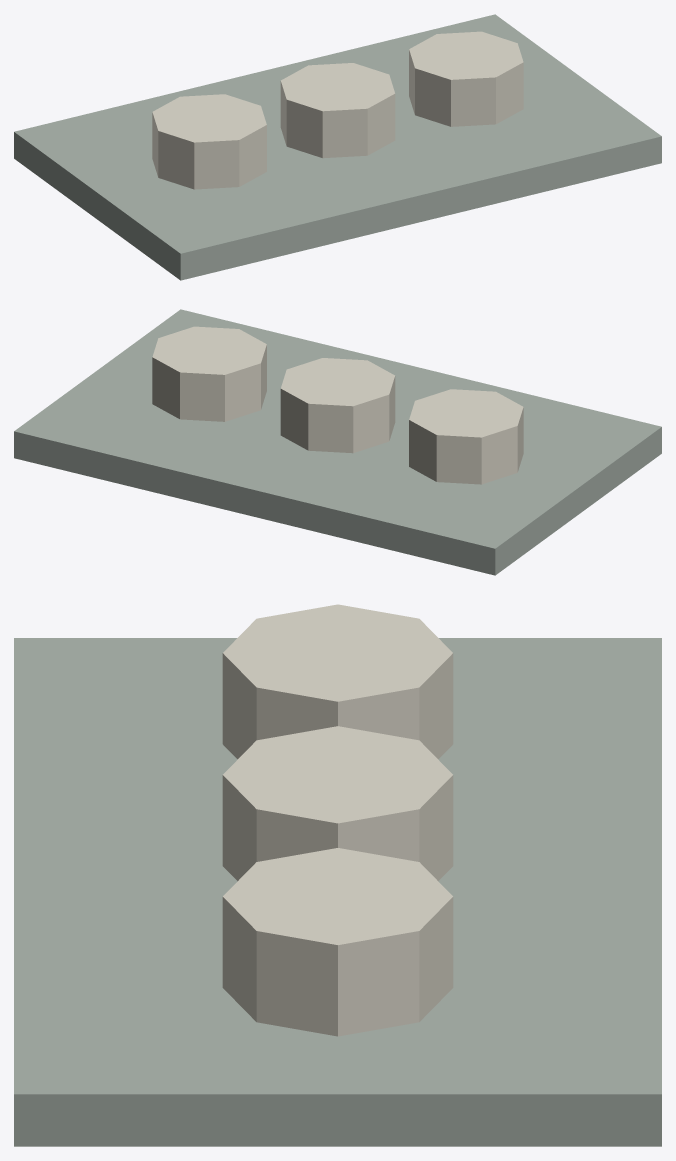
The model's file is blender_sanity_medication_1.glb.
3 renders of one model, top to bottom at view 1: azimuth 30°, elevation 25°; view 2: azimuth 150°, elevation 25°; view 3: azimuth 270°, elevation 25°, orthographic. The views are drawn at different scales.
Parts seen in each view (by area): view 1: blender_sanity_medication_1; view 2: blender_sanity_medication_1; view 3: blender_sanity_medication_1.
Part boxes in pixels (x1,y1,x2,y2): blender_sanity_medication_1: [14, 14, 661, 280]; blender_sanity_medication_1: [14, 309, 661, 575]; blender_sanity_medication_1: [14, 604, 661, 1146].
Size of the model in its own units: 0.075 by 0.011 by 0.045.
Materials: 1 (1 with a texture image).
